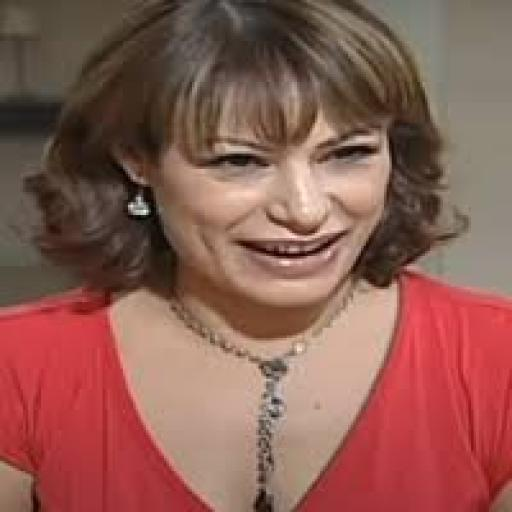zeineb: (146, 110, 389, 320)
